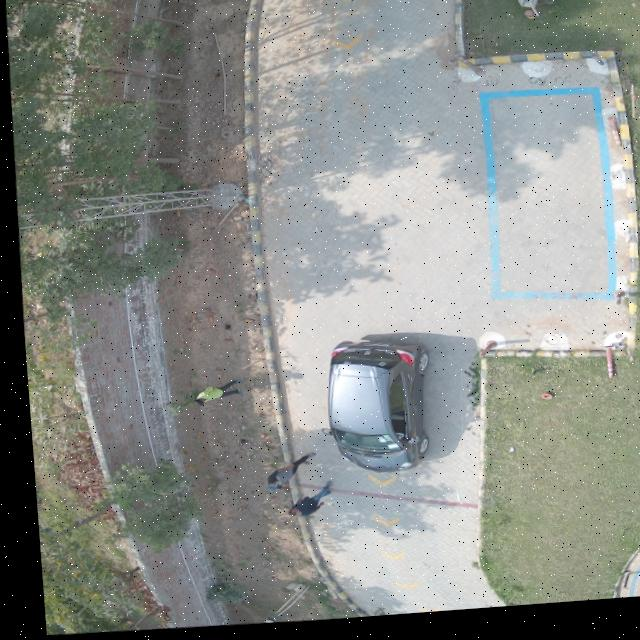car: (316, 344, 422, 478)
